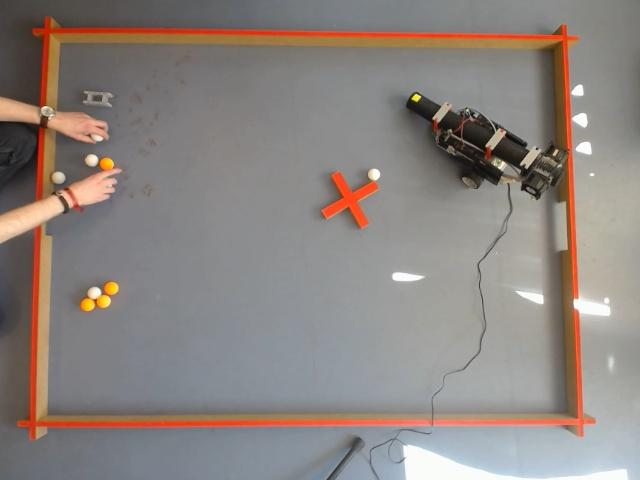orange: (94, 291, 112, 310), (78, 296, 96, 314), (102, 280, 120, 296), (98, 156, 115, 170)
robot: (407, 92, 569, 198)
robot-front: (406, 92, 436, 120)
white: (366, 167, 382, 183), (84, 153, 99, 169), (50, 170, 66, 184), (87, 285, 101, 300)
